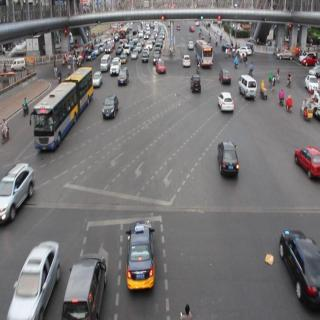BigCar: (28, 68, 92, 154)
Car: (8, 239, 57, 320), (277, 226, 320, 307), (124, 220, 156, 291), (0, 162, 35, 222), (294, 145, 320, 180), (216, 140, 239, 175), (237, 72, 257, 101), (219, 88, 234, 116), (102, 95, 118, 121), (200, 44, 213, 69), (304, 73, 319, 94), (191, 74, 203, 94), (277, 49, 292, 64), (302, 54, 318, 68), (12, 59, 27, 73), (220, 68, 232, 84), (92, 70, 102, 89), (118, 68, 128, 85), (100, 53, 110, 70), (109, 59, 119, 76), (157, 60, 166, 76), (182, 54, 190, 67), (142, 51, 149, 65), (188, 39, 194, 52), (130, 50, 137, 61)
